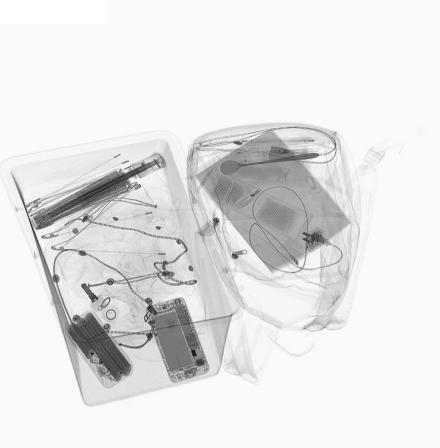Powerbank: (64, 309, 137, 391)
